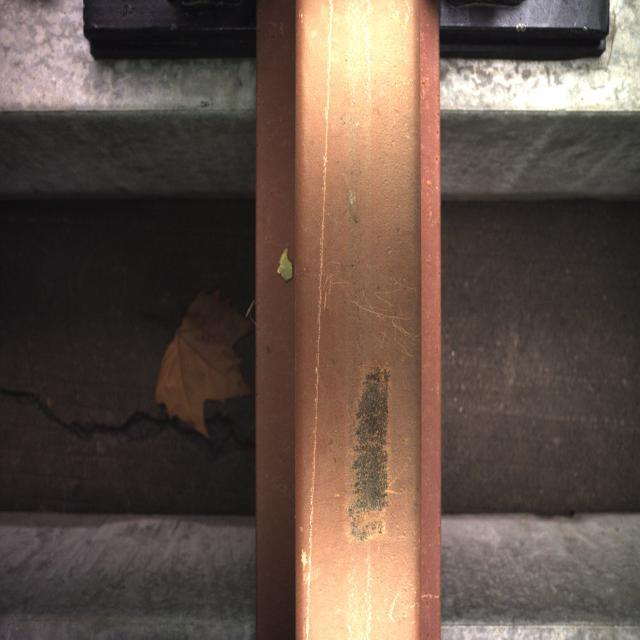scar: (312, 41, 412, 599)
